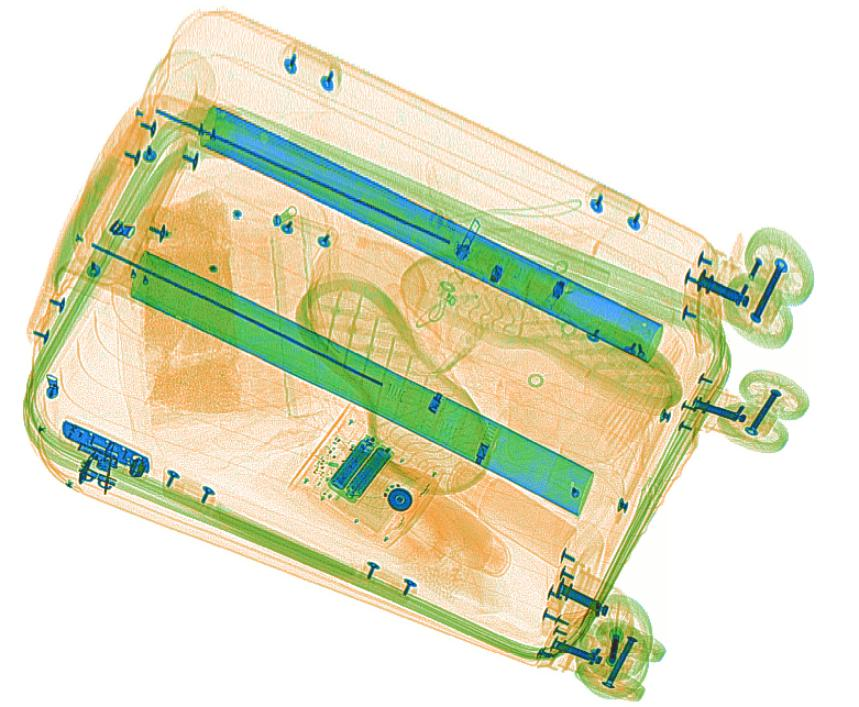battery: (326, 435, 394, 503)
